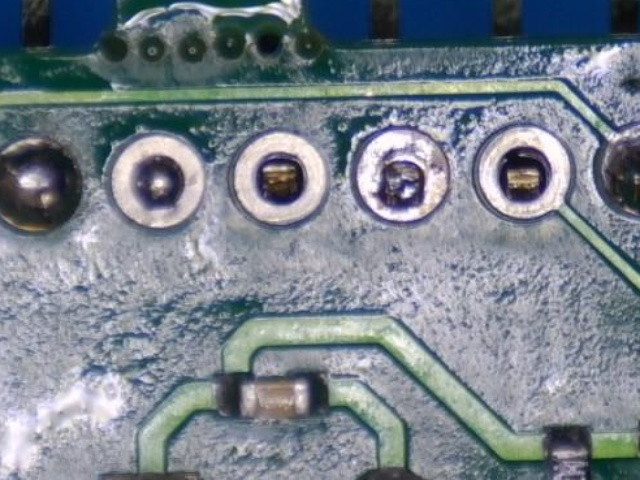pcb_defect: (112, 136, 205, 227), (357, 131, 449, 222)
